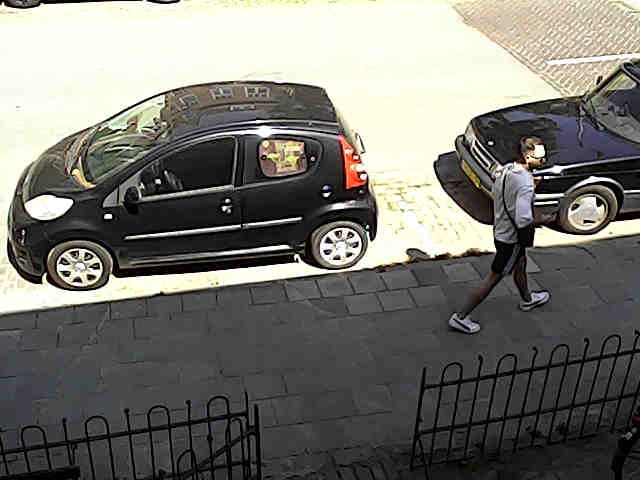male: (449, 136, 549, 333)
suv: (7, 82, 377, 289), (455, 61, 639, 233), (0, 0, 42, 8)
